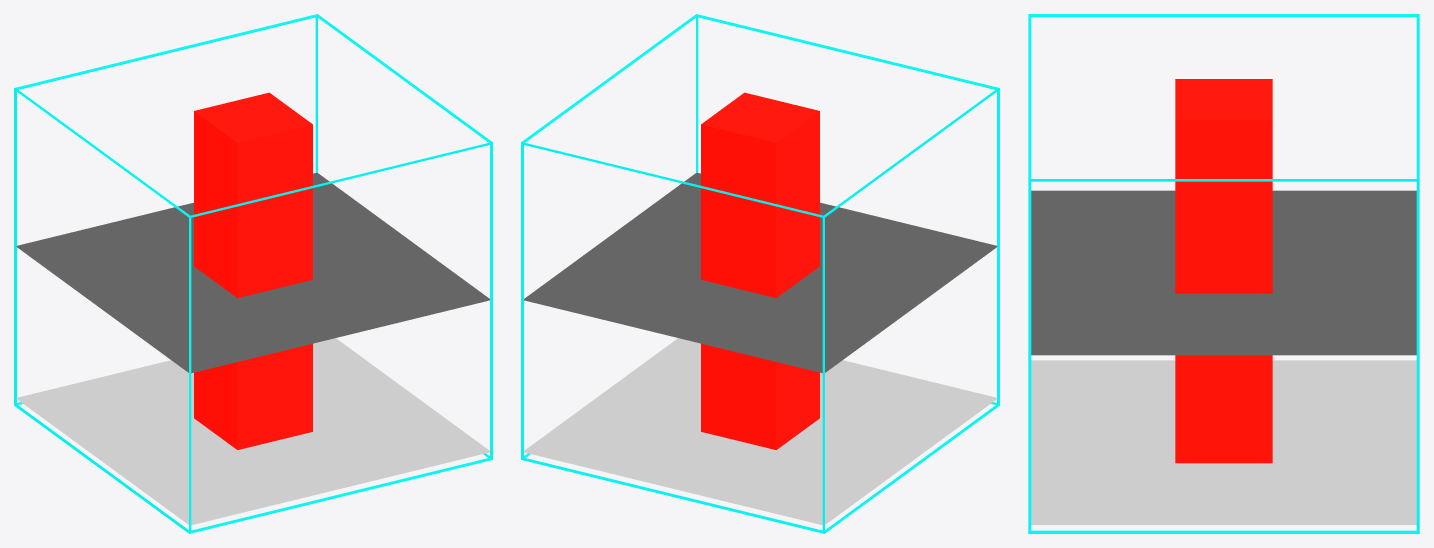
The picture shows the model from 3 angles, left to right: view 1: azimuth 30°, elevation 25°; view 2: azimuth 150°, elevation 25°; view 3: azimuth 270°, elevation 25°; orthographic projection. The views are drawn at different scales.
Parts seen in each view (by area): view 1: Plane, Plane.001, Cube, Cube.001; view 2: Plane, Plane.001, Cube, Cube.001; view 3: Plane, Plane.001, Cube, Cube.001.
Boxes of the visible parts, left/top/right/bottom form: Plane: left=16, top=173, right=489, bottom=373; Plane.001: left=16, top=338, right=489, bottom=524; Cube: left=194, top=92, right=312, bottom=449; Cube.001: left=14, top=14, right=492, bottom=533; Plane: left=524, top=173, right=997, bottom=373; Plane.001: left=524, top=338, right=997, bottom=524; Cube: left=701, top=92, right=819, bottom=449; Cube.001: left=521, top=14, right=999, bottom=533; Plane: left=1031, top=190, right=1416, bottom=355; Plane.001: left=1031, top=360, right=1416, bottom=524; Cube: left=1175, top=79, right=1272, bottom=463; Cube.001: left=1028, top=14, right=1419, bottom=533.
Bounding box in the file's own units: 8.05 × 8.15 × 8.05.
